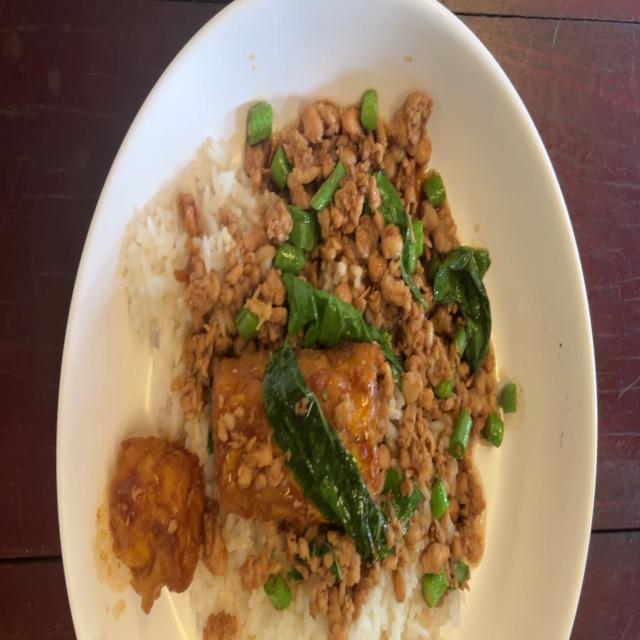01rice: (125, 194, 177, 355)
fried_tofo: (220, 348, 380, 513), (112, 438, 202, 590)
minced_pork: (244, 90, 499, 343), (383, 344, 509, 598), (238, 516, 394, 619)
stir_fried_basil: (110, 89, 514, 640)
